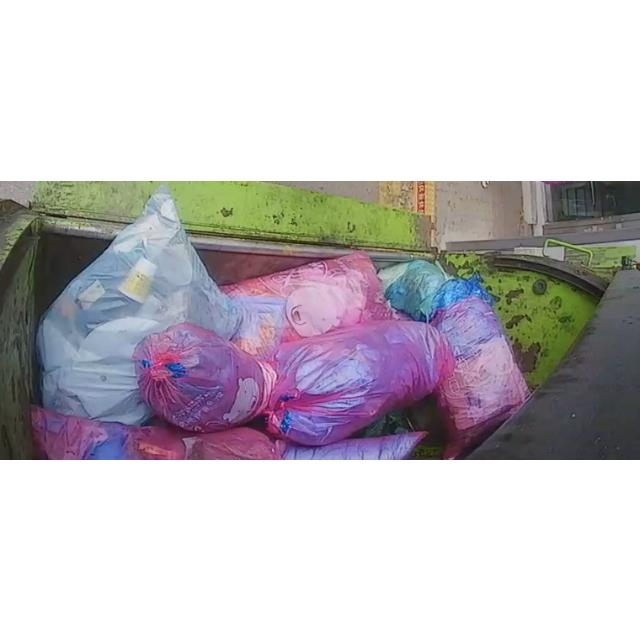general_trashbag: (379, 259, 446, 320)
other_trashbag: (38, 186, 240, 423), (264, 320, 454, 444), (422, 275, 530, 457), (222, 251, 402, 357), (132, 321, 276, 431)
